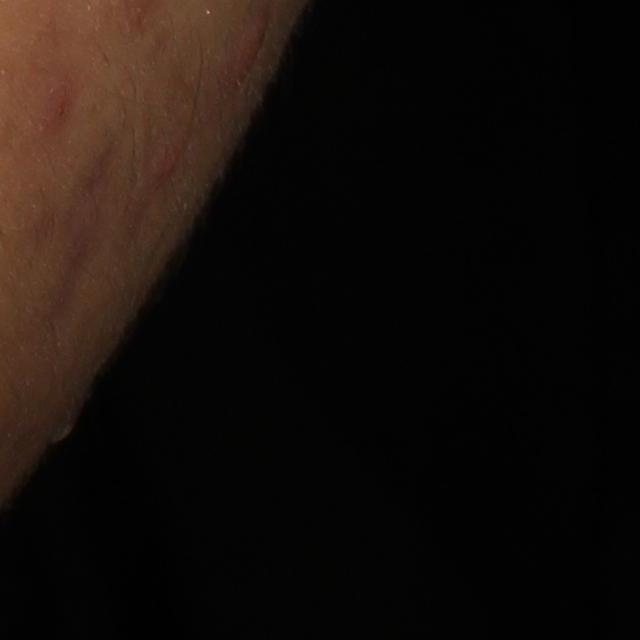papule: (150, 114, 188, 194), (42, 402, 85, 450)
